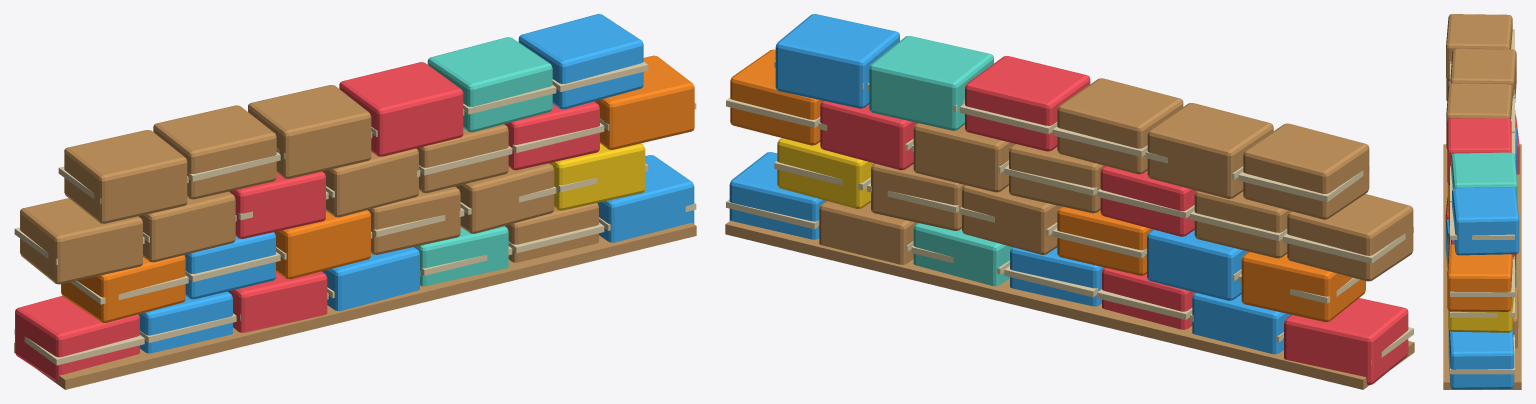
File: gate-box-wall.glb
The picture shows the model from 3 angles, left to right: view 1: azimuth 30°, elevation 25°; view 2: azimuth 150°, elevation 25°; view 3: azimuth 270°, elevation 25°; orthographic projection. The views are drawn at different scales.
Parts seen in each view (by area): view 1: gate-box-wall; view 2: gate-box-wall; view 3: gate-box-wall.
Boxes of the visible parts, x1,y1,x2,y2 form: gate-box-wall: (14,14,696,389); gate-box-wall: (725,14,1414,389); gate-box-wall: (1443,14,1521,389).
Size of the model in its own units: 8.01 by 2.39 by 1.1.
